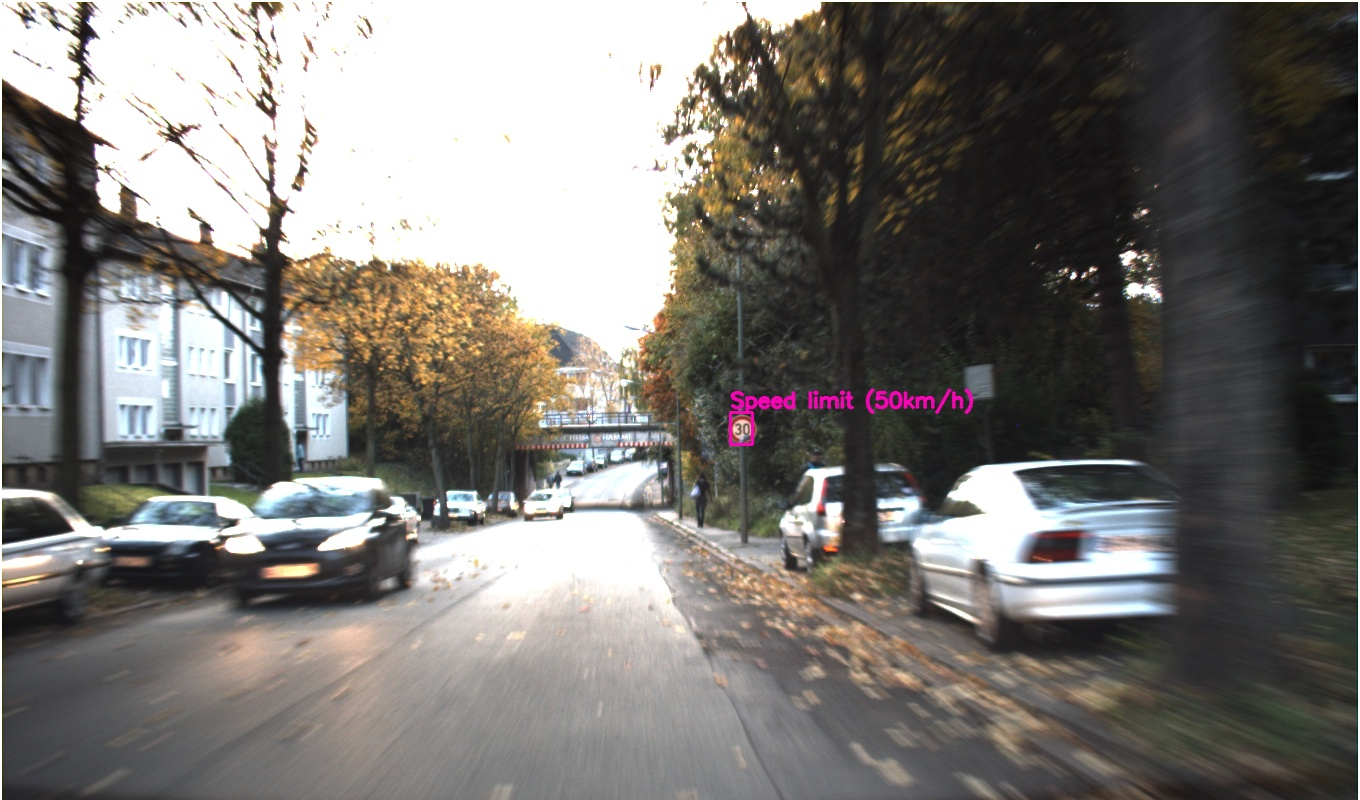Dangerous curve to the right: (910, 495, 953, 533)
